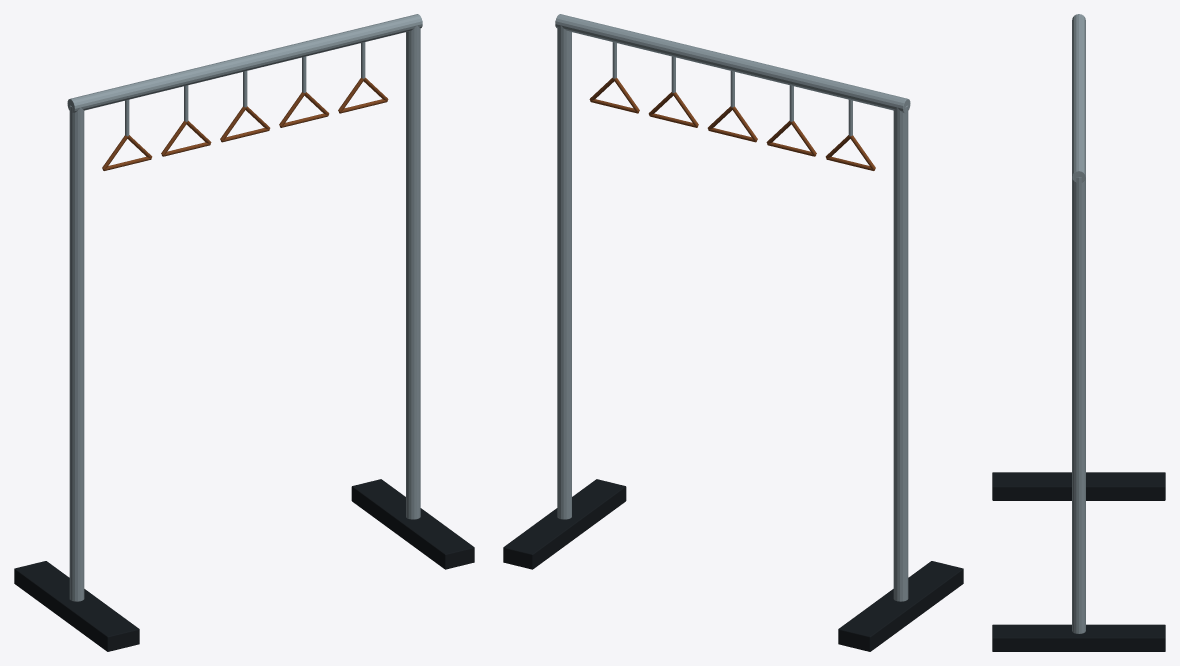
File: edited.glb
3 views of the same model, side by side, from view 1: azimuth 30°, elevation 25°; view 2: azimuth 150°, elevation 25°; view 3: azimuth 270°, elevation 25° (orthographic). The views are drawn at different scales.
Visible parts, largest first — view 1: UPRIGHT, UPRIGHT.001, HANGING_Rail, BASE_Foot.001, BASE_Foot; view 2: UPRIGHT, UPRIGHT.001, HANGING_Rail, BASE_Foot.001, BASE_Foot; view 3: UPRIGHT.001, BASE_Foot, BASE_Foot.001, HANGING_Rail.
Boxes of the visible parts, x1,y1,x2,y2 form: UPRIGHT: (69,105,84,601); UPRIGHT.001: (406,25,420,519); HANGING_Rail: (67,14,422,112); BASE_Foot.001: (14,561,139,651); BASE_Foot: (351,479,474,569); UPRIGHT: (893,105,908,601); UPRIGHT.001: (557,25,571,519); HANGING_Rail: (555,14,910,112); BASE_Foot.001: (838,561,963,651); BASE_Foot: (503,479,626,569); UPRIGHT.001: (1072,177,1085,633); BASE_Foot: (992,624,1165,651); BASE_Foot.001: (992,472,1165,500); HANGING_Rail: (1072,14,1085,182).
Size of the model in its own units: 1.25 by 1.67 by 0.55.
